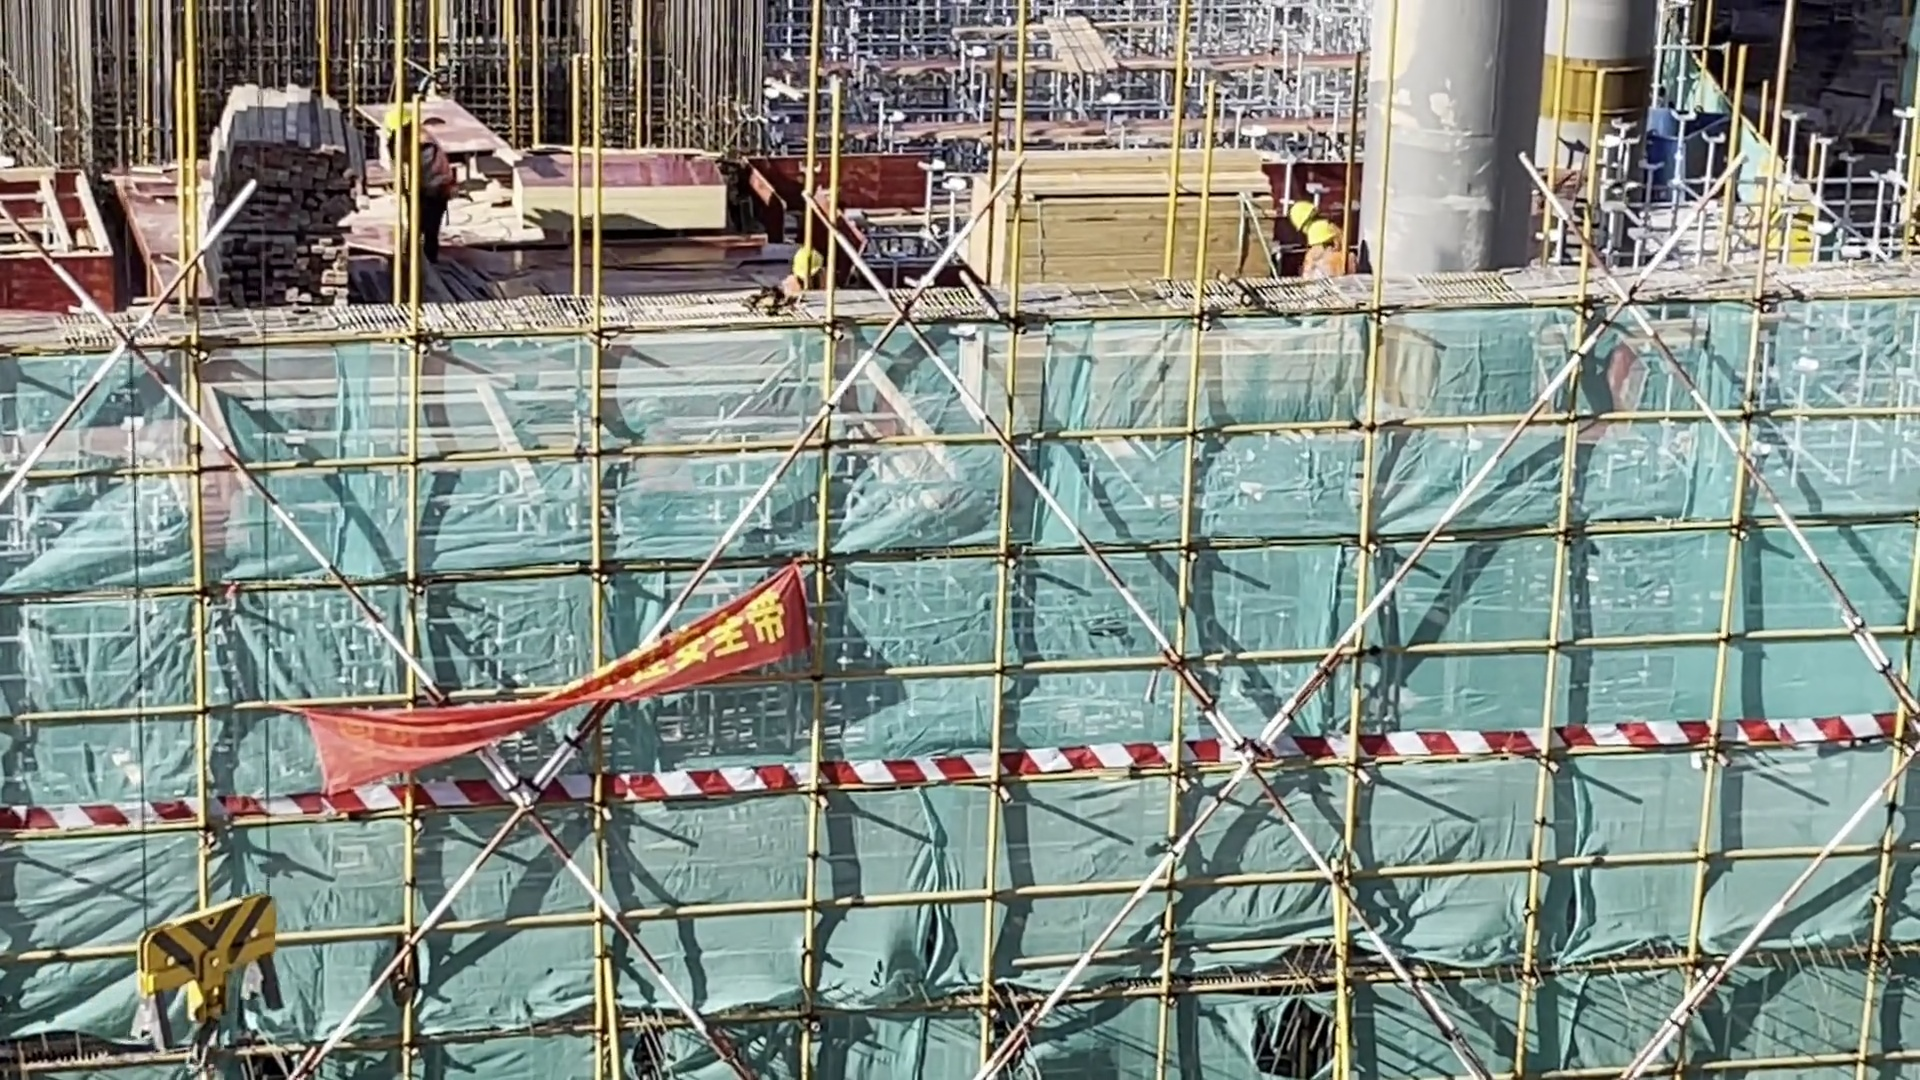helmet: (1282, 203, 1338, 246), (794, 251, 829, 278)
hopper: (1637, 104, 1741, 204)
person: (1268, 194, 1352, 291), (784, 236, 838, 290)
slogan: (280, 556, 819, 810)
wood: (966, 149, 1275, 298), (202, 75, 360, 313)
